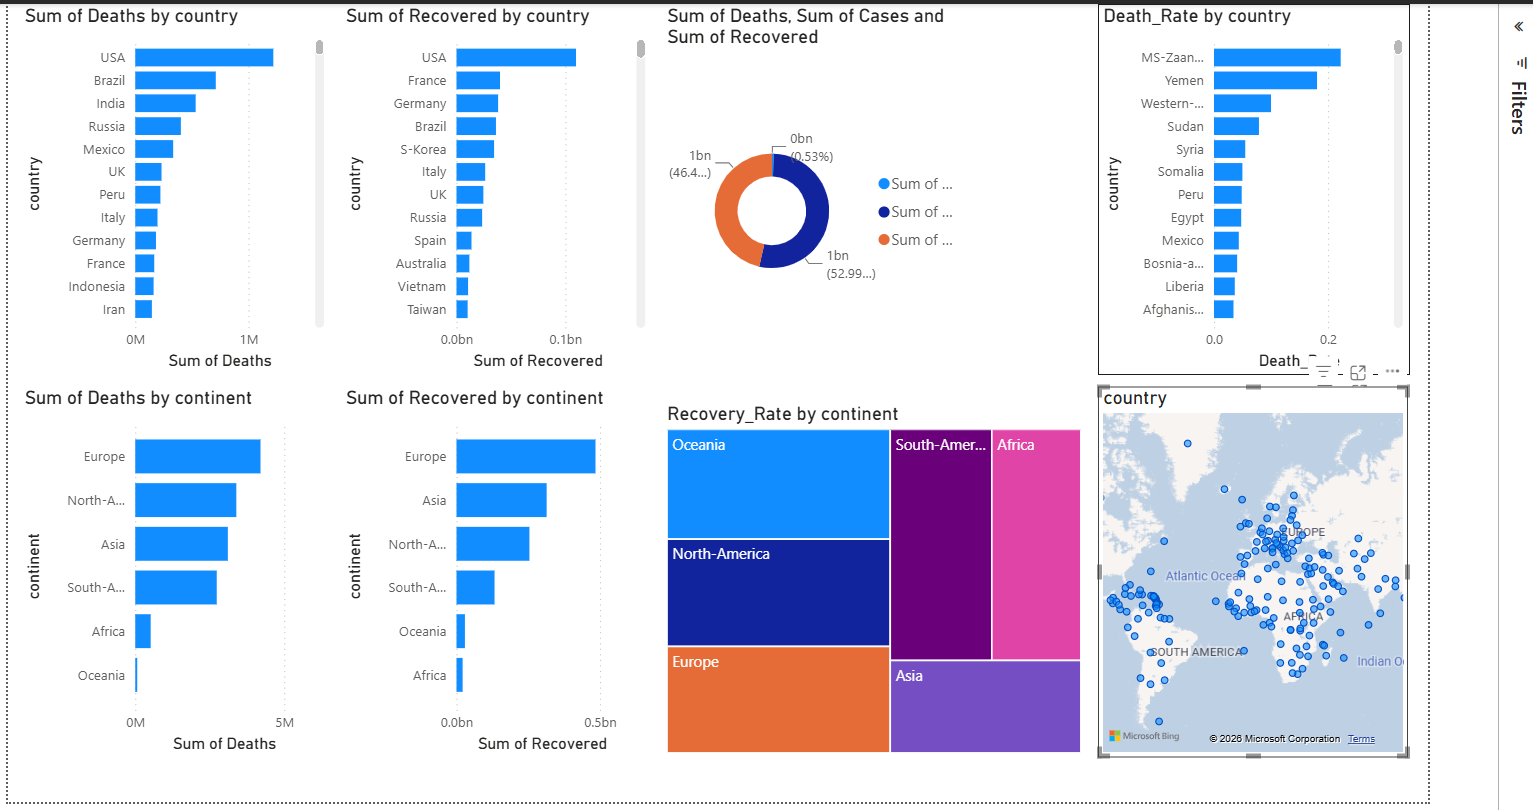

This screenshot's page, from the dashboard's own definition file:
{"tool":"powerbi","page":{"name":"Page 2","canvas":[1280,720],"ordinal":1},"visuals":[{"type":"clusteredBarChart","fields":{"Y":["Sum(covid_19.Deaths)"],"Category":["covid_19.country"]},"box":[9.6,0,279.9,334.8],"z":0},{"type":"clusteredBarChart","fields":{"Category":["covid_19.continent"],"Y":["Sum(covid_19.Deaths)"]},"box":[10,345,280,335],"z":1},{"type":"clusteredBarChart","fields":{"Y":["Sum(covid_19.Recovered)"],"Category":["covid_19.country"]},"box":[300,0,280,335],"z":2},{"type":"clusteredBarChart","fields":{"Y":["Sum(covid_19.Recovered)"],"Category":["covid_19.continent"]},"box":[300,345,280,335],"z":3},{"type":"donutChart","fields":{"Y":["Sum(covid_19.Deaths)","Sum(covid_19.Cases)","Sum(covid_19.Recovered)"]},"box":[590,0,280,335],"z":4},{"type":"treemap","fields":{"Group":["covid_19.continent"],"Values":["covid_19.Recovery_Rate"]},"box":[589.6,359.5,383.1,320.9],"z":5},{"type":"clusteredBarChart","fields":{"Y":["covid_19.Death_Rate"],"Category":["covid_19.country"]},"box":[983,0,280,335],"z":6}]}

Visuals, with their boxes on the page's 1280x720 design canvas (x1, y1, x2, y2). These are canvas units, not pixel positions in the 1533x810 screenshot, which may show the page scaled, cropped or inside an application window:
clusteredBarChart - Sum(covid_19.Deaths) x covid_19.country: [x1=10, y1=0, x2=290, y2=335]
clusteredBarChart - covid_19.continent x Sum(covid_19.Deaths): [x1=10, y1=345, x2=290, y2=680]
clusteredBarChart - Sum(covid_19.Recovered) x covid_19.country: [x1=300, y1=0, x2=580, y2=335]
clusteredBarChart - Sum(covid_19.Recovered) x covid_19.continent: [x1=300, y1=345, x2=580, y2=680]
donutChart - Sum(covid_19.Deaths) x Sum(covid_19.Cases): [x1=590, y1=0, x2=870, y2=335]
treemap - covid_19.continent x covid_19.Recovery_Rate: [x1=590, y1=360, x2=973, y2=680]
clusteredBarChart - covid_19.Death_Rate x covid_19.country: [x1=983, y1=0, x2=1263, y2=335]
